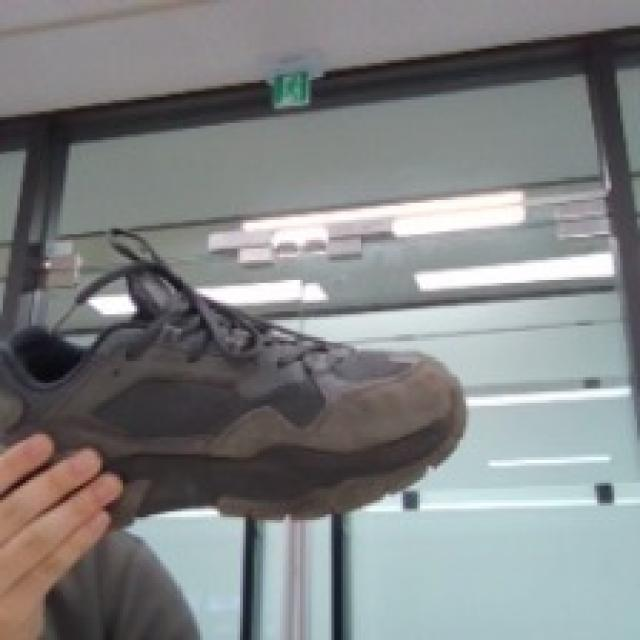shoe: (0, 232, 527, 542)
